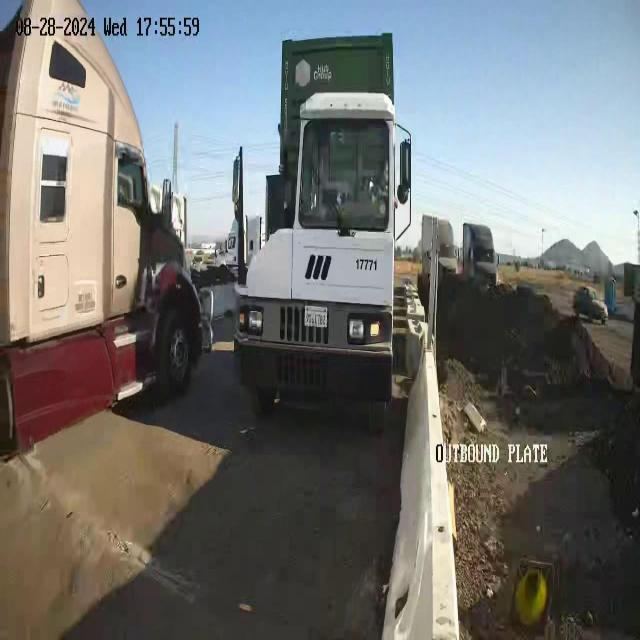TRUCK_IN: (0, 0, 203, 446)
TRUCK_OUT: (222, 32, 429, 431)
